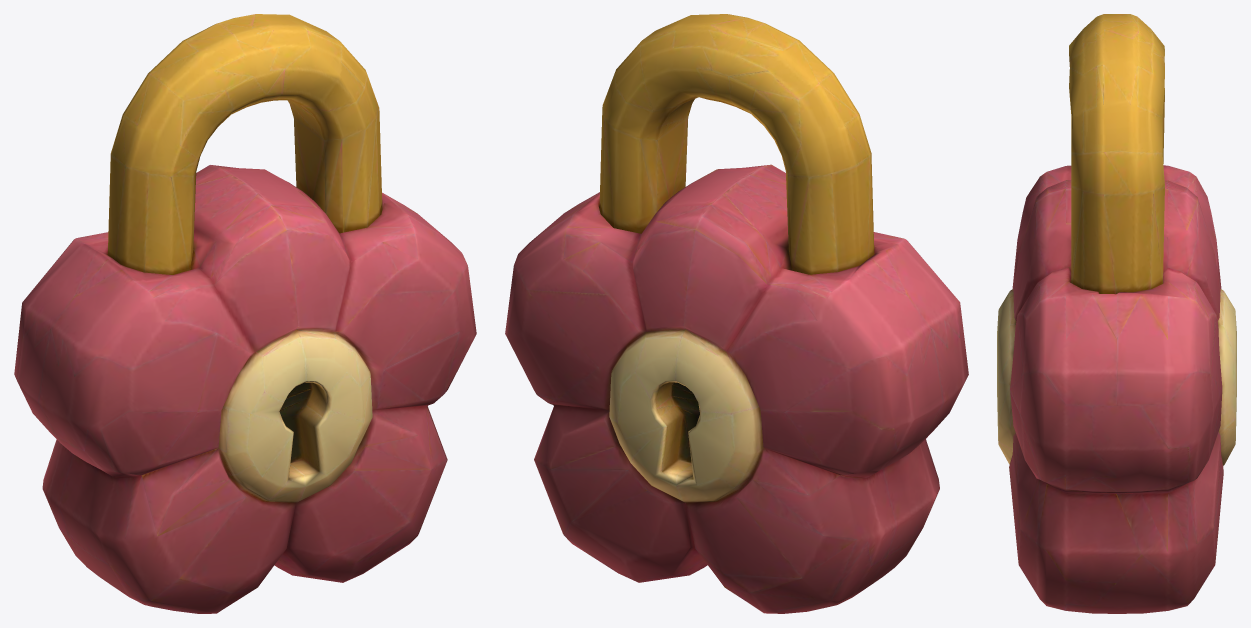
File: lock_03.glb
3 views of the same model, side by side, from view 1: azimuth 30°, elevation 25°; view 2: azimuth 150°, elevation 25°; view 3: azimuth 270°, elevation 25° (orthographic). The views are drawn at different scales.
Visible parts, largest first — view 1: geometry_0; view 2: geometry_0; view 3: geometry_0.
Part boxes in pixels (x1,y1,x2,y2): geometry_0: (14, 14, 476, 613); geometry_0: (505, 14, 968, 613); geometry_0: (997, 14, 1236, 613).
Bounding box in the file's own units: 0.7368 × 0.9526 × 0.3794.
Materials: 1 (1 with a texture image).
